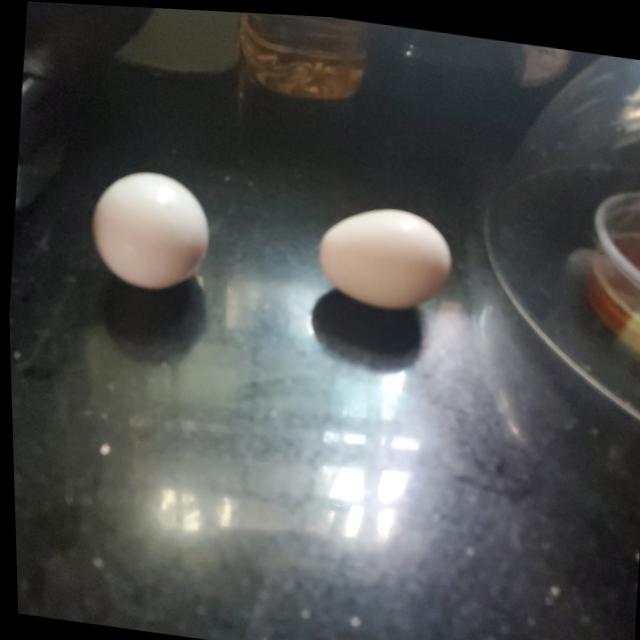egg: (83, 158, 217, 296), (309, 189, 457, 310)
